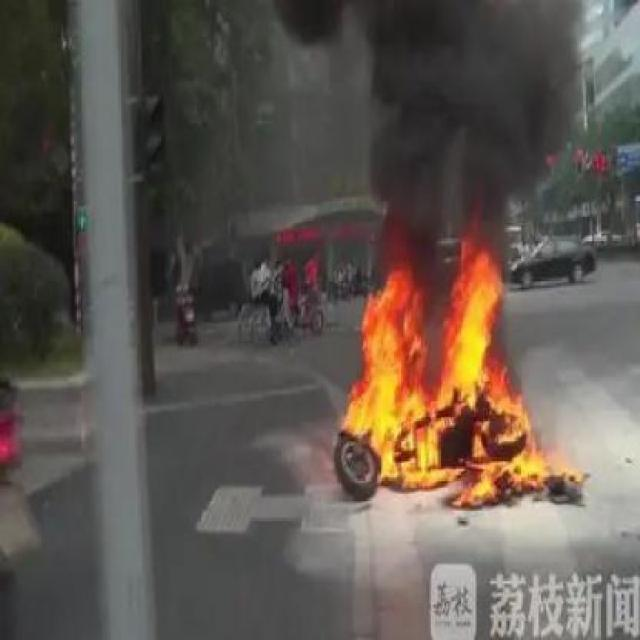Fire: (350, 276, 439, 470), (444, 250, 507, 412), (472, 423, 546, 494)
Smoke: (363, 3, 574, 256)
